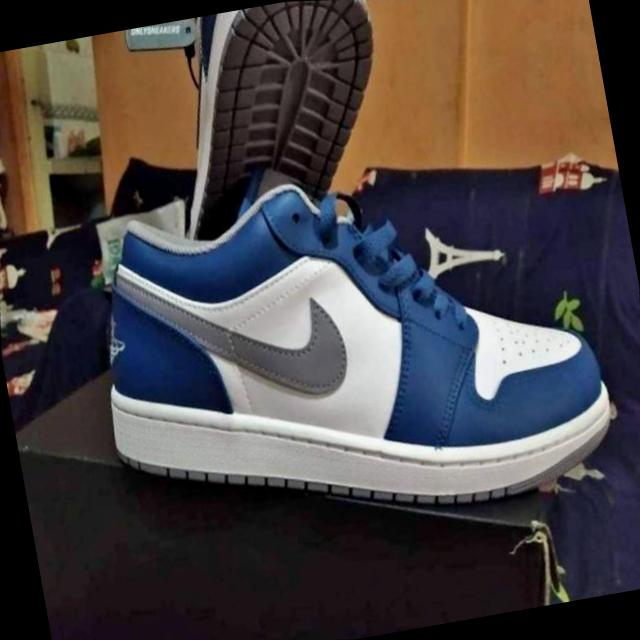nike_original_jordan: (57, 105, 640, 593)
